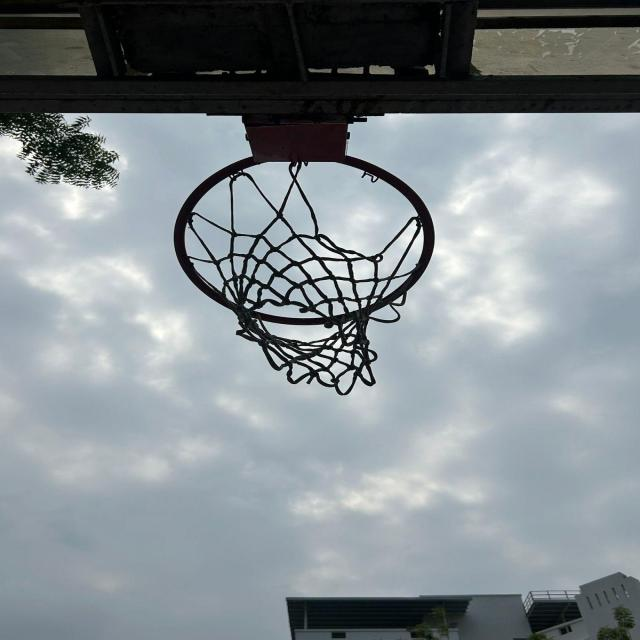hoop: (156, 116, 460, 401)
